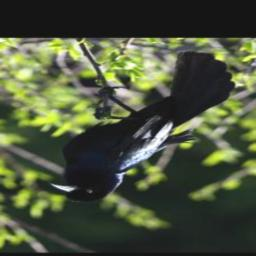Crow: (48, 53, 234, 205)
